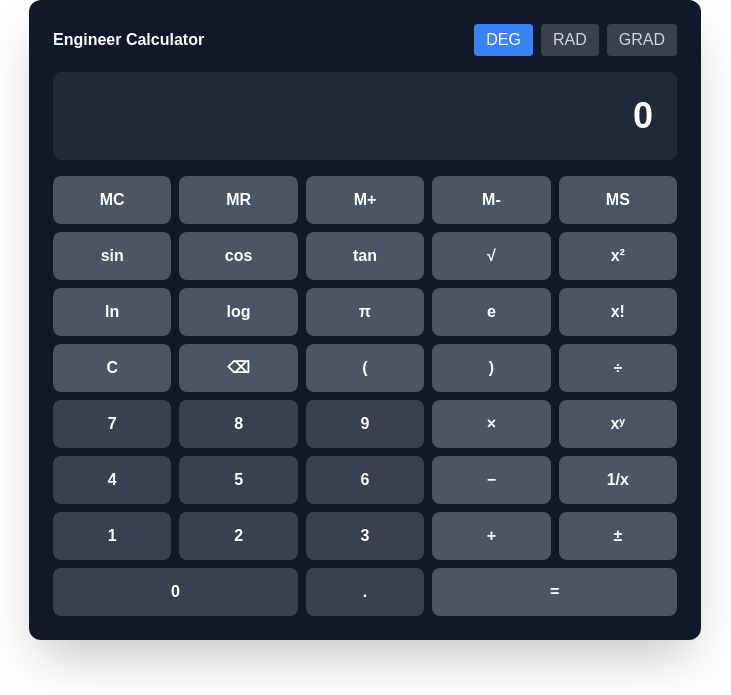
Scenario: Calculator Component › should update display when number button clicked
This screenshot has width=731, height=695.
Step 1. Click the button "1" → (112, 536), box [53,512,171,560]
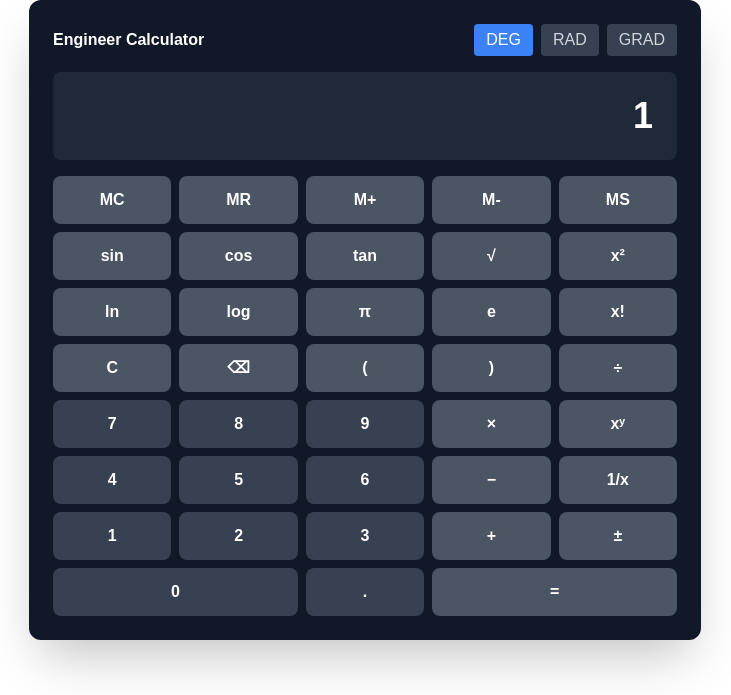
Step 2. Click the button "2" → (239, 536), box [179,512,298,560]
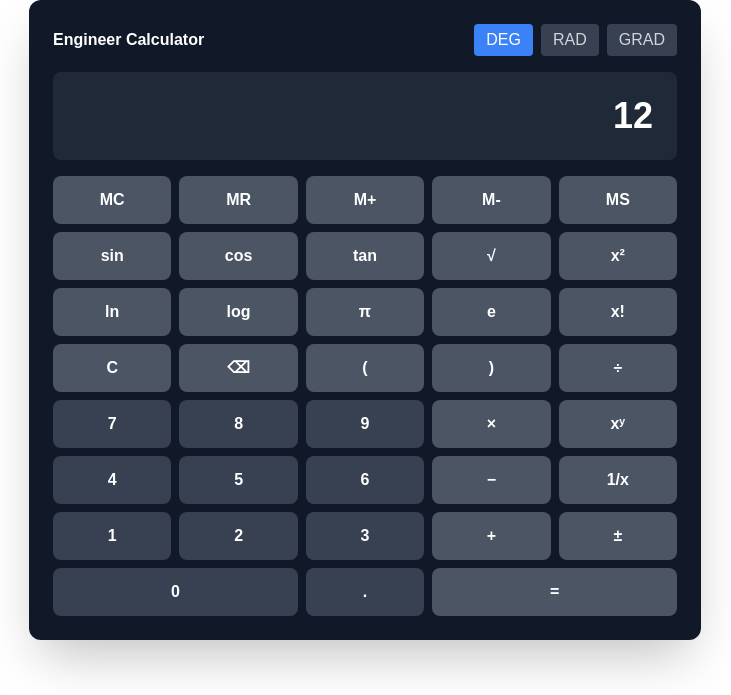
Check: the text "12" is shown, box [613,95,653,136]
